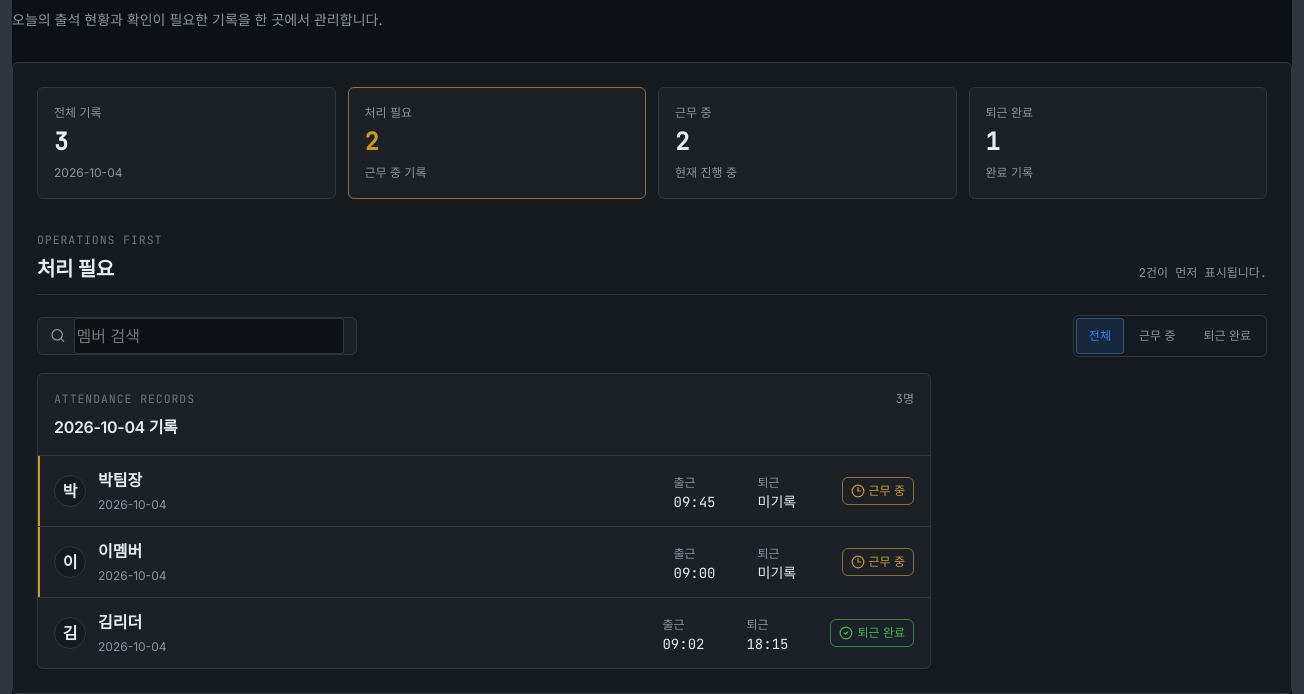
Test: Attendance 페이지 › 관리자가 기록을 선택하면 상세 패널을 연다
(page scrolled)
Step 1. Click the button with aria-label "김리더 기록 상세 보기" → (70,633), box [38, 598, 930, 668]
(page scrolled)
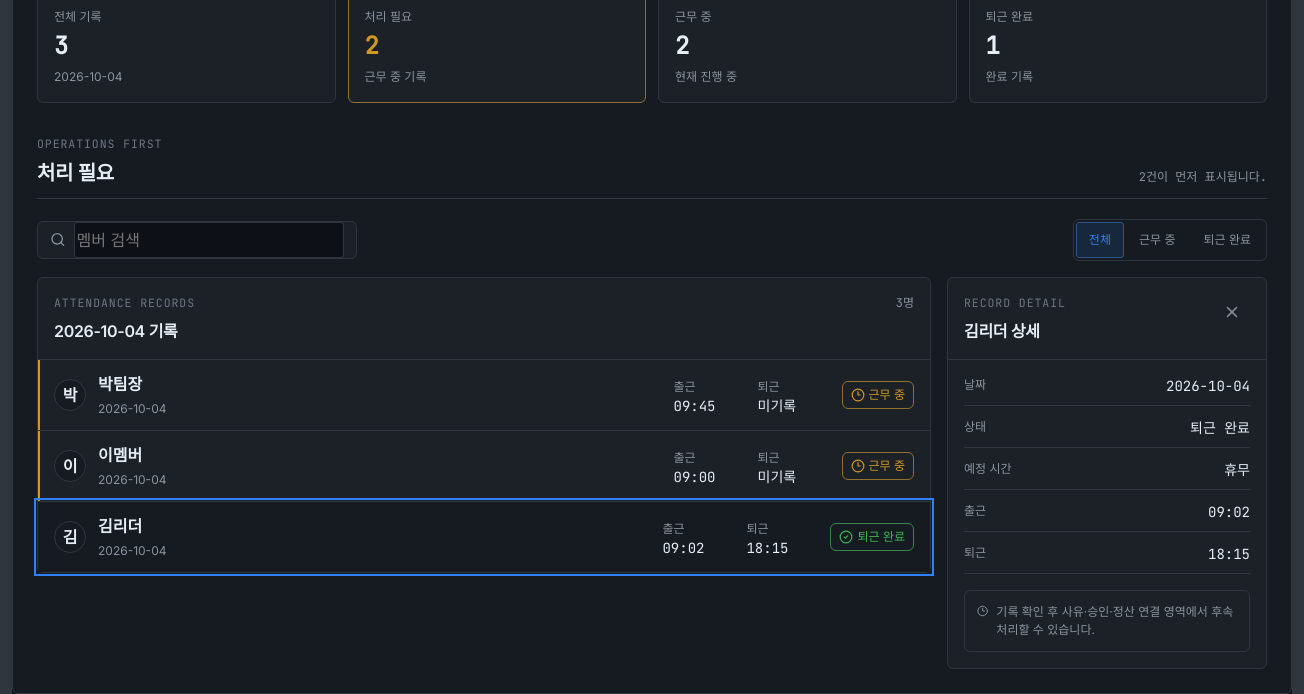
Expected: the heading "김리더 상세" is shown, [964, 321, 1040, 341]
Expected: the element that starts with "RECORD DETAIL" shows "09:02", [1208, 503, 1250, 521]
Expected: the element that starts with "RECORD DETAIL" shows "18:15", [1208, 545, 1250, 563]
